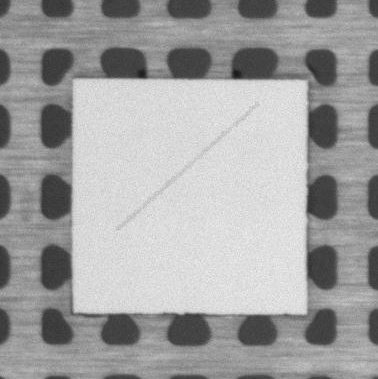DIE_CRACK: (118, 104, 257, 230)
